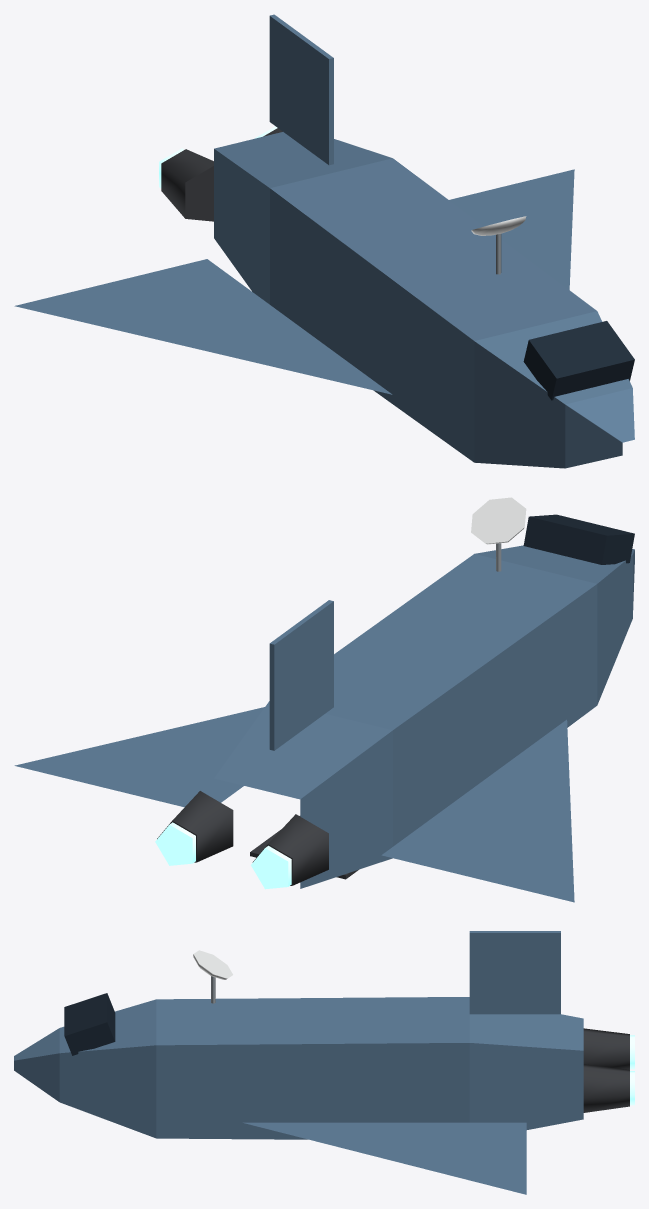
The model's file is space_ship_shuttle_mk5_lod1.glb.
3 views of the same model, one above another, from view 1: azimuth 30°, elevation 25°; view 2: azimuth 150°, elevation 25°; view 3: azimuth 270°, elevation 25° (orthographic). The views are drawn at different scales.
Parts seen in each view (by area): view 1: body, engine_1, antenna_0; view 2: body, engine_0, engine_1, antenna_0; view 3: body, engine_0, engine_1, antenna_0.
Boxes of the visible parts, x1,y1,x2,y2 form: body: (14, 14, 634, 468); engine_1: (159, 148, 213, 221); antenna_0: (471, 216, 526, 274); body: (14, 514, 634, 902); engine_0: (155, 791, 233, 865); engine_1: (251, 814, 328, 889); antenna_0: (471, 497, 526, 571); body: (14, 931, 583, 1194); engine_0: (583, 1064, 634, 1112); engine_1: (583, 1028, 634, 1069); antenna_0: (193, 950, 232, 1003).
Bounding box in the file's own units: 11.6 × 4.8 × 14.52.
